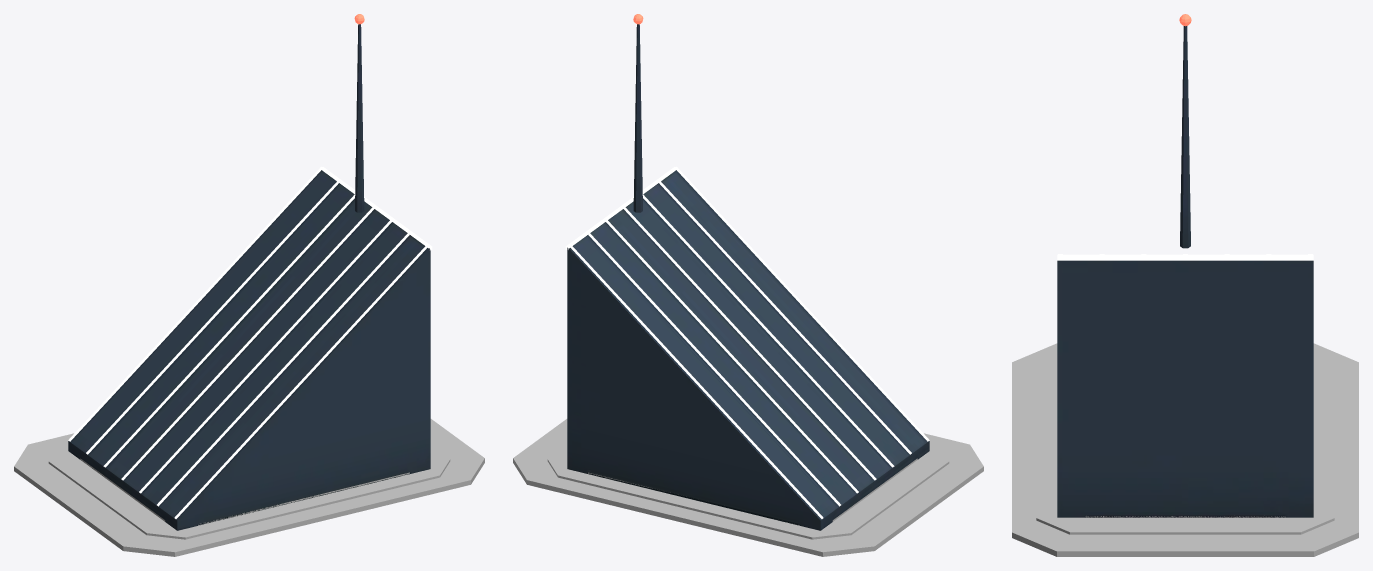
File: tower-glass.glb
The picture shows the model from 3 angles, left to right: view 1: azimuth 30°, elevation 25°; view 2: azimuth 150°, elevation 25°; view 3: azimuth 270°, elevation 25°; orthographic projection. The views are drawn at different scales.
Visible parts, largest first — view 1: Crown, Body, Glow, Frame; view 2: Crown, Body, Frame, Glow; view 3: Crown, Body, Frame, Glow.
Part boxes in pixels (x1=…): Crown: x1=68, y1=24, x2=430, y2=530; Body: x1=14, y1=419, x2=484, y2=556; Glow: x1=68, y1=166, x2=432, y2=518; Frame: x1=47, y1=473, x2=471, y2=547; Crown: x1=567, y1=24, x2=929, y2=530; Body: x1=513, y1=419, x2=983, y2=556; Frame: x1=524, y1=421, x2=962, y2=548; Glow: x1=565, y1=166, x2=929, y2=518; Crown: x1=1057, y1=26, x2=1313, y2=517; Body: x1=1012, y1=343, x2=1358, y2=556; Frame: x1=1020, y1=345, x2=1340, y2=550; Glow: x1=1057, y1=254, x2=1313, y2=260.
Bounding box in the file's own units: 44 × 49.49 × 31.
Materials: 5 (1 with a texture image).
